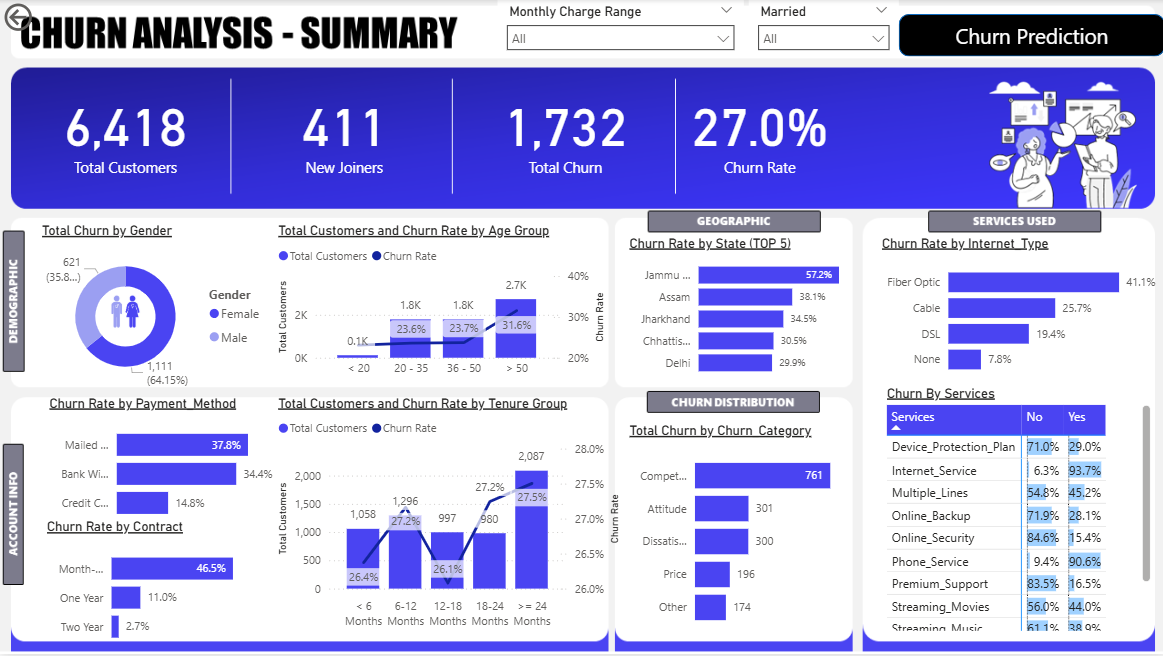

The page's visual inventory and layout, read from the dashboard file:
{"tool":"powerbi","page":{"name":" Summary","canvas":[1280,720],"ordinal":0},"visuals":[{"type":"donutChart","fields":{"Y":["tbl_measures.Total Churn"],"Category":["prod_Churn.Gender"]},"box":[41.2,245.6,259.3,189.4],"z":0},{"type":"actionButton","box":[0,0,100,40],"z":1000},{"type":"card","fields":{"Values":["tbl_measures.New Joiners"]},"box":[289.5,82.3,177,123.5],"z":2000},{"type":"card","fields":{"Values":["tbl_measures.Total Churn"]},"box":[546.1,82.3,149.6,123.5],"z":3000},{"type":"card","fields":{"Values":["tbl_measures.Churn Rate"]},"box":[753.3,82.3,161.9,123.5],"z":4000},{"type":"card","fields":{"Values":["tbl_measures.Total Customers"]},"box":[0,72.7,275.8,142.7],"z":5000},{"type":"lineClusteredColumnComboChart","fields":{"Category":["mapping_AgeGrp.Age Group"],"Y":["tbl_measures.Total Customers"],"Y2":["tbl_measures.Churn Rate"]},"box":[300.5,245.6,369.1,178.4],"z":6000},{"type":"clusteredBarChart","fields":{"Category":["prod_Churn.Payment_Method"],"Y":["tbl_measures.Churn Rate"]},"box":[49.4,435,262.1,149.6],"z":7000},{"type":"clusteredBarChart","fields":{"Category":["prod_Churn.Contract"],"Y":["tbl_measures.Churn Rate"]},"box":[46.7,570.8,253.9,149.6],"z":8000},{"type":"clusteredBarChart","title":"Churn Rate by State (TOP 5)","fields":{"Category":["prod_Churn.State"],"Y":["tbl_measures.Churn Rate"]},"box":[686.1,259.3,271.7,164.7],"z":9000},{"type":"clusteredBarChart","fields":{"Category":["prod_Churn.Churn_Category"],"Y":["tbl_measures.Total Churn"]},"box":[686.1,465.2,255.2,237.4],"z":10000},{"type":"clusteredBarChart","fields":{"Category":["prod_Churn.Internet_Type"],"Y":["tbl_measures.Churn Rate"]},"box":[963.3,259.3,317,164.7],"z":11000},{"type":"pivotTable","title":"Churn By Services","fields":{"Rows":["prod_Services.Services"],"Columns":["prod_Services.Status"],"Values":["Sum(prod_Services.Churn Status)"]},"box":[968.8,424,299.1,274.4],"z":12000},{"type":"slicer","fields":{"Values":["prod_Services.Monthly Charge Status"]},"box":[546.1,0,270.3,63.1],"z":13000},{"type":"image","box":[90.6,319.7,94.7,45.3],"z":14000},{"type":"slicer","fields":{"Values":["prod_Services.Married"]},"box":[822,0,164.7,63.1],"z":15000},{"type":"lineClusteredColumnComboChart","fields":{"Category":["mapping_TenureGrp.Tenure Group"],"Y":["tbl_measures.Total Customers"],"Y2":["tbl_measures.Churn Rate"]},"box":[300.5,435,385.6,263.5],"z":16000},{"type":"shape","box":[986.6,16.5,292.3,46.7],"z":16001}]}

Visuals, with their boxes in screenshot pixels (x1, y1, x2, y2), scaled from the page's 1280x720 canvas onto the 1163x656 screenshot:
donutChart - tbl_measures.Total Churn x prod_Churn.Gender: [left=37, top=224, right=273, bottom=396]
actionButton: [left=0, top=0, right=91, bottom=36]
card - tbl_measures.New Joiners: [left=263, top=75, right=424, bottom=188]
card - tbl_measures.Total Churn: [left=496, top=75, right=632, bottom=188]
card - tbl_measures.Churn Rate: [left=684, top=75, right=832, bottom=188]
card - tbl_measures.Total Customers: [left=0, top=66, right=251, bottom=196]
lineClusteredColumnComboChart - mapping_AgeGrp.Age Group x tbl_measures.Total Customers: [left=273, top=224, right=608, bottom=386]
clusteredBarChart - prod_Churn.Payment_Method x tbl_measures.Churn Rate: [left=45, top=396, right=283, bottom=533]
clusteredBarChart - prod_Churn.Contract x tbl_measures.Churn Rate: [left=42, top=520, right=273, bottom=655]
"Churn Rate by State (TOP 5)" clusteredBarChart: [left=623, top=236, right=870, bottom=386]
clusteredBarChart - prod_Churn.Churn_Category x tbl_measures.Total Churn: [left=623, top=424, right=855, bottom=640]
clusteredBarChart - prod_Churn.Internet_Type x tbl_measures.Churn Rate: [left=875, top=236, right=1162, bottom=386]
"Churn By Services" pivotTable: [left=880, top=386, right=1152, bottom=636]
slicer - prod_Services.Monthly Charge Status: [left=496, top=0, right=742, bottom=57]
image: [left=82, top=291, right=168, bottom=333]
slicer - prod_Services.Married: [left=747, top=0, right=897, bottom=57]
lineClusteredColumnComboChart - mapping_TenureGrp.Tenure Group x tbl_measures.Total Customers: [left=273, top=396, right=623, bottom=636]
shape: [left=896, top=15, right=1162, bottom=58]
